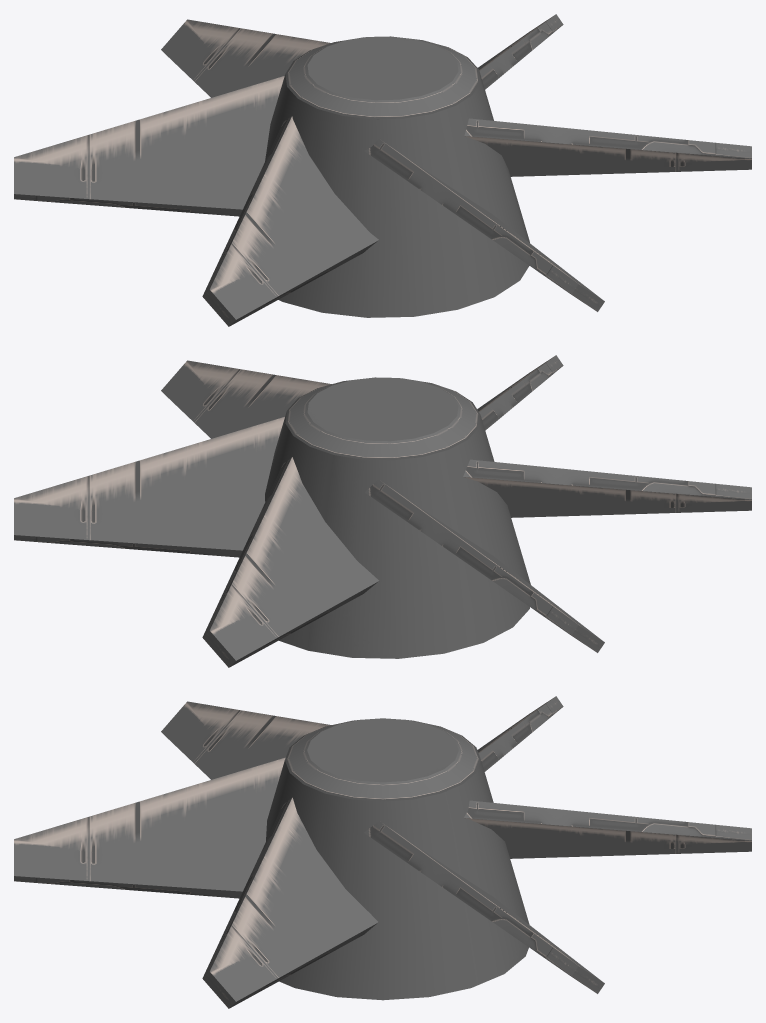
The model's file is Prop_Fan_Small_Propeller.gltf.
The picture shows the model from 3 angles, top to bottom: view 1: azimuth 30°, elevation 25°; view 2: azimuth 150°, elevation 25°; view 3: azimuth 270°, elevation 25°; orthographic projection.
Parts seen in each view (by area): view 1: Prop_Fan_Small_Propeller; view 2: Prop_Fan_Small_Propeller; view 3: Prop_Fan_Small_Propeller.
Boxes of the visible parts, x1=… form: Prop_Fan_Small_Propeller: x1=14, y1=14, x2=751, y2=326; Prop_Fan_Small_Propeller: x1=14, y1=355, x2=751, y2=667; Prop_Fan_Small_Propeller: x1=14, y1=696, x2=751, y2=1008.
Bounding box in the file's own units: 1.06 × 0.3203 × 1.15.
Materials: 2 (2 with a texture image).
